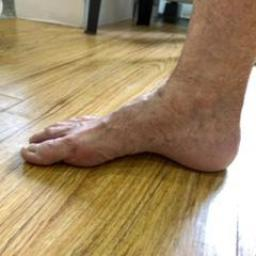Medial View -Right Foot-: (10, 47, 255, 189)
